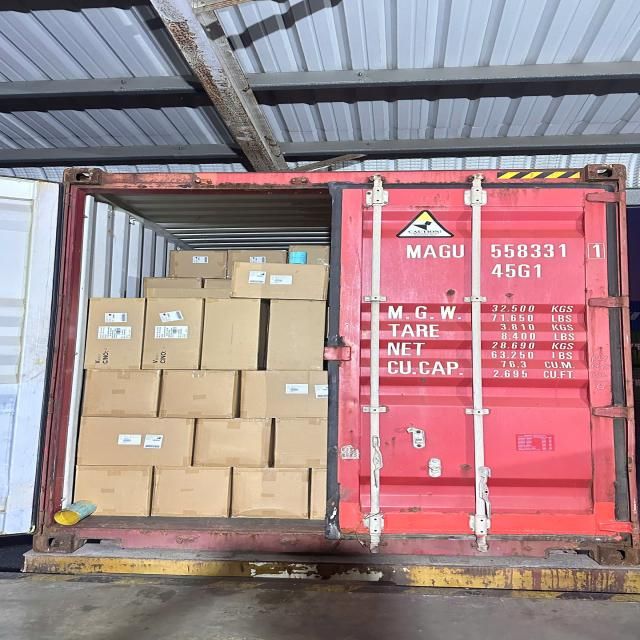Carton: (78, 419, 192, 466), (240, 371, 332, 420), (269, 297, 328, 370), (152, 467, 230, 519), (144, 296, 198, 371), (86, 298, 142, 370), (73, 464, 148, 517), (205, 298, 258, 372), (162, 369, 240, 419), (194, 418, 272, 468), (232, 468, 308, 519), (233, 262, 330, 301), (87, 368, 159, 417), (271, 419, 334, 469)
